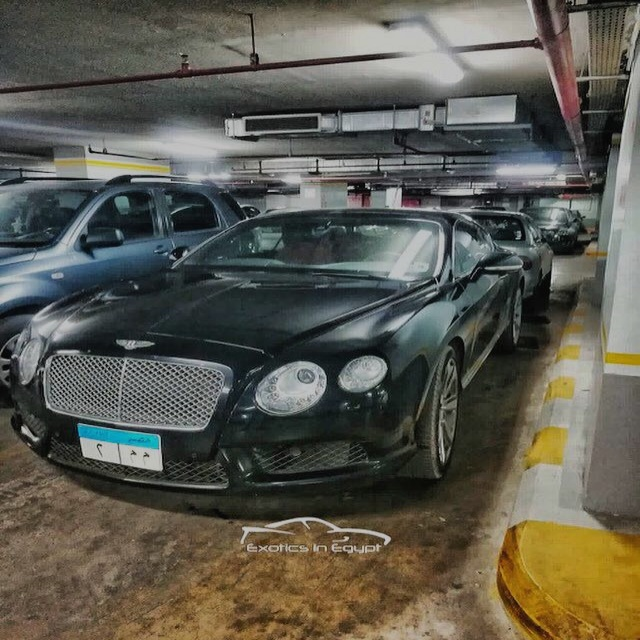License Plate: (73, 422, 165, 474)
